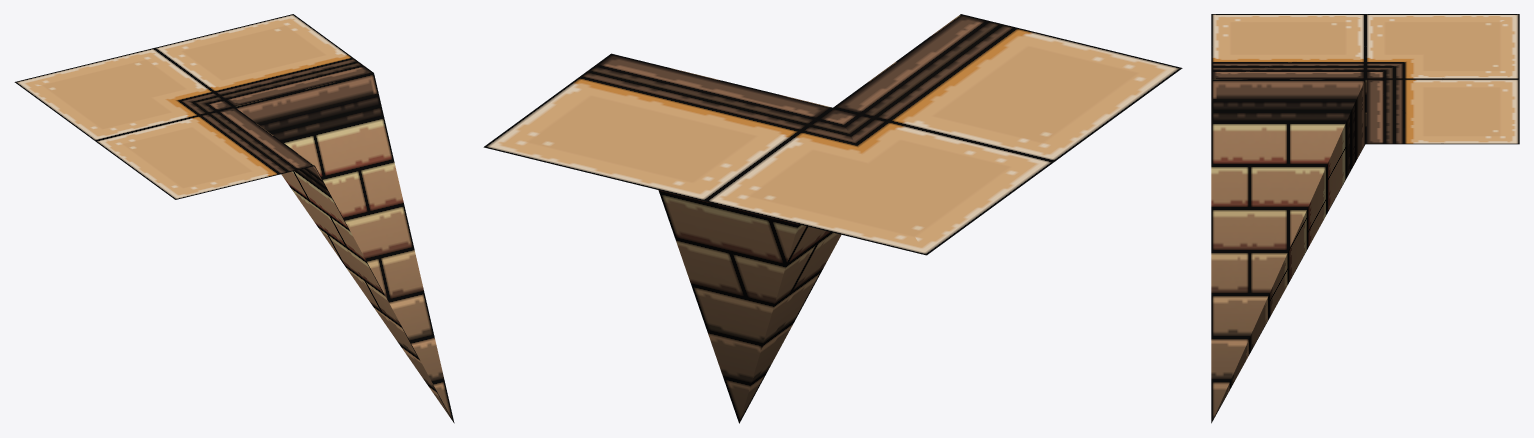
The model's file is wall_cornerIn.FBX.
3 renders of one model, left to right at view 1: azimuth 30°, elevation 25°; view 2: azimuth 150°, elevation 25°; view 3: azimuth 270°, elevation 25°, orthographic. The views are drawn at different scales.
Visible parts, largest first — view 1: wall_cornerIn; view 2: wall_cornerIn; view 3: wall_cornerIn.
Boxes of the visible parts, x1,y1,x2,y2 form: wall_cornerIn: (14, 14, 454, 423); wall_cornerIn: (483, 14, 1182, 423); wall_cornerIn: (1211, 14, 1519, 423).
Bounding box in the file's own units: 4 × 4 × 4.
1 material, 1 textured.
